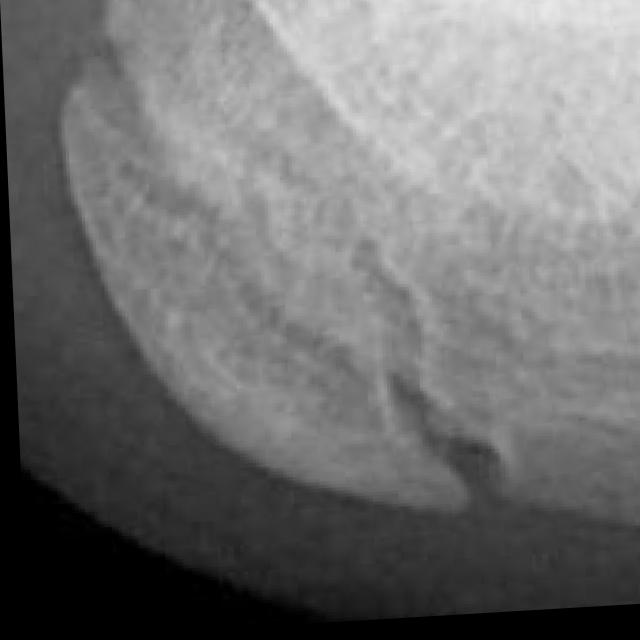fracture: (0, 0, 640, 616)
